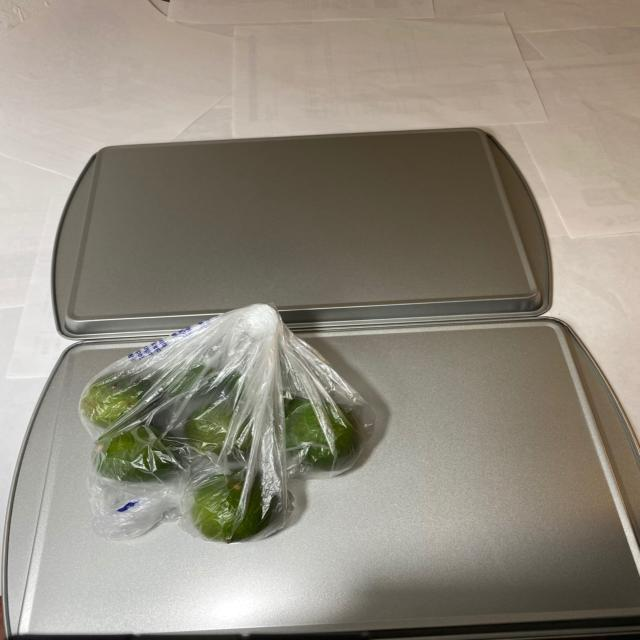lemon: (79, 338, 365, 539)
